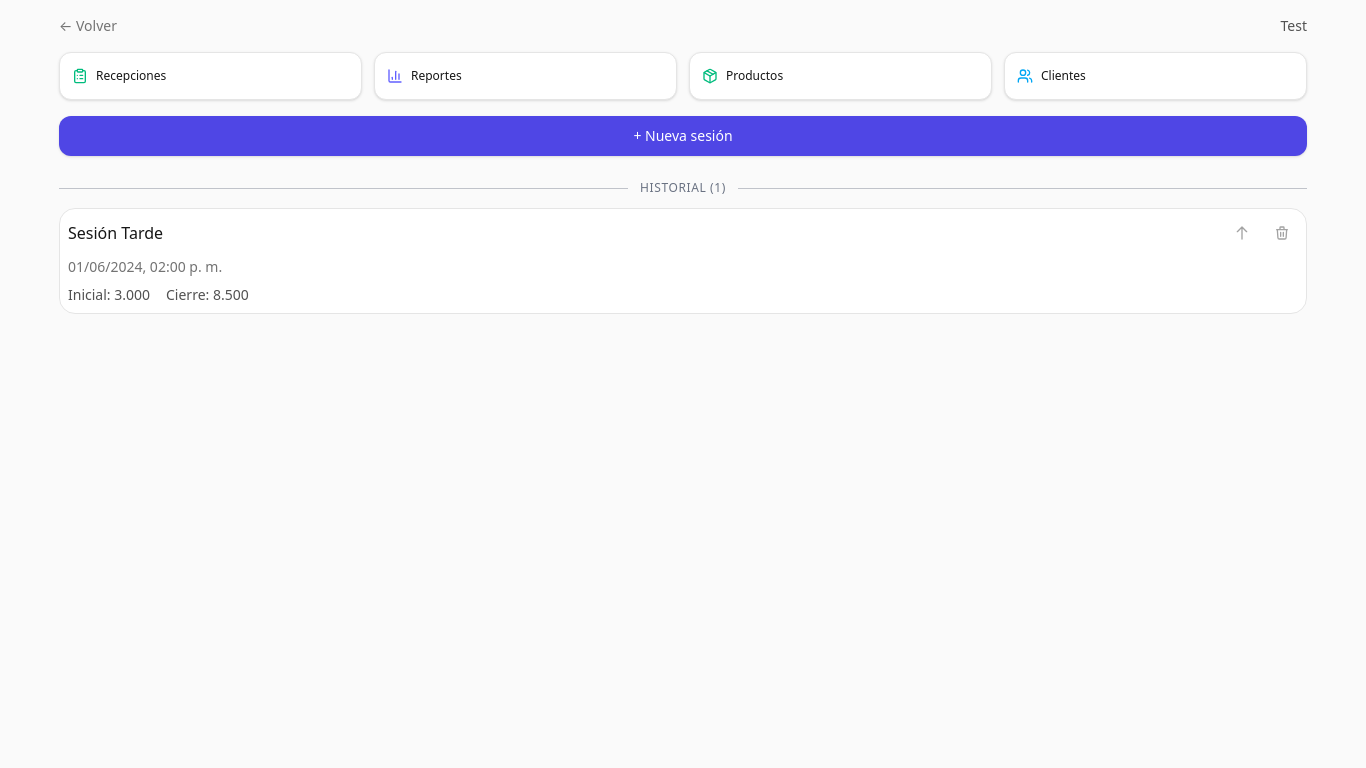
Scenario: BranchSessions › should show delete modal when clicking eliminar on closed session
This screenshot has width=1366, height=768.
Expected: the heading "Sesión Tarde" is shown, left=68, top=221, right=163, bottom=245
Click the button titled "Eliminar".
click(1282, 233)  # box left=1266, top=217, right=1298, bottom=249
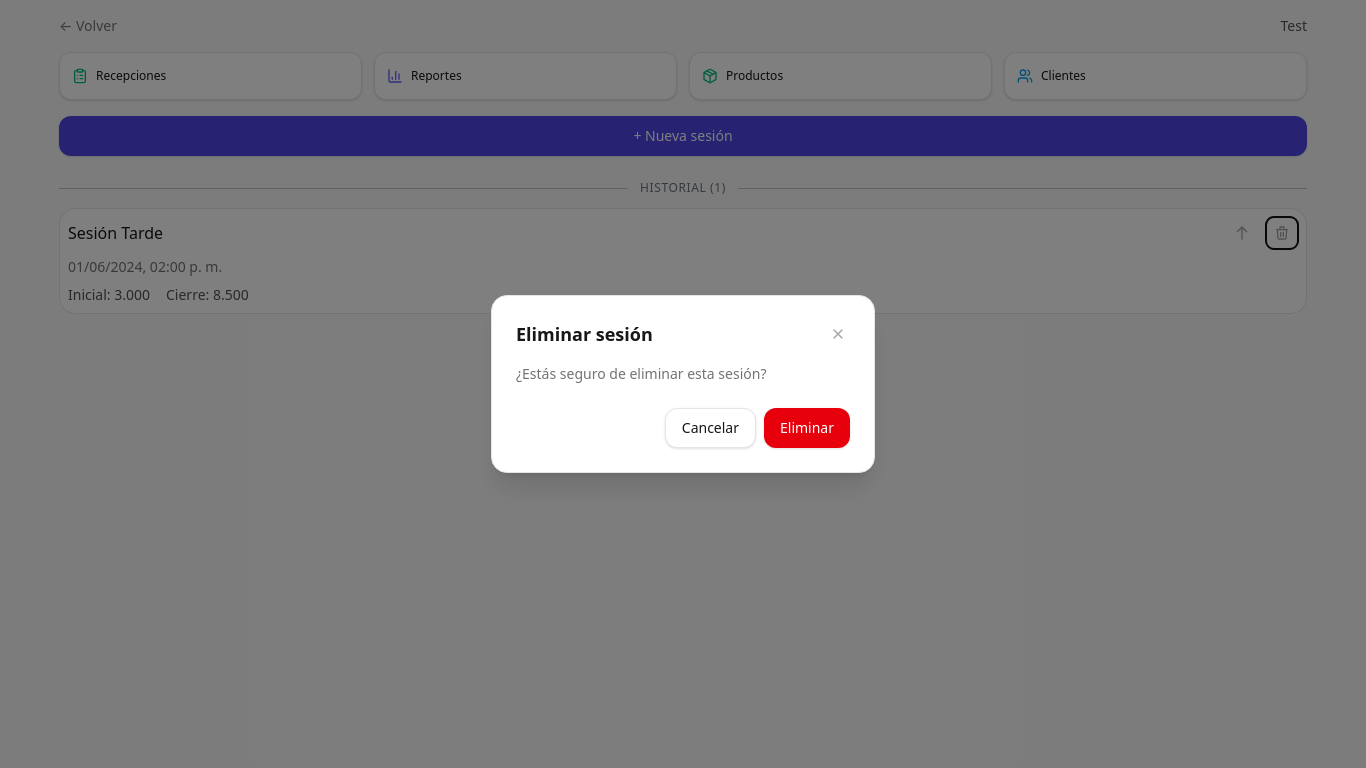
Expected: the heading "Eliminar sesión" is shown, left=516, top=320, right=653, bottom=348
